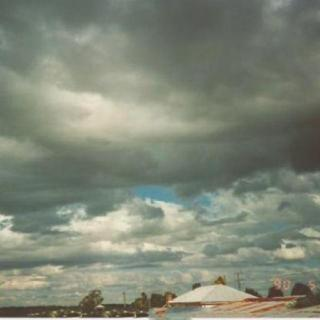Stratocumulus: (0, 2, 320, 270)
